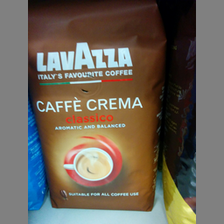coffee: (29, 1, 168, 213)
